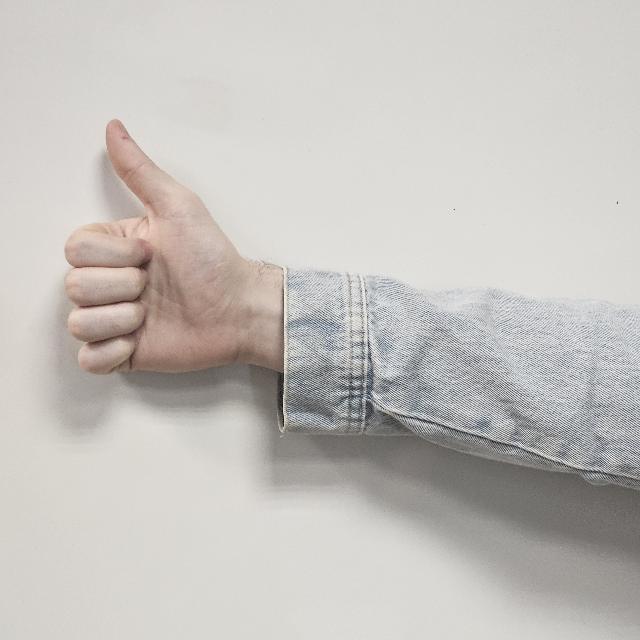Start: (54, 118, 256, 398)
